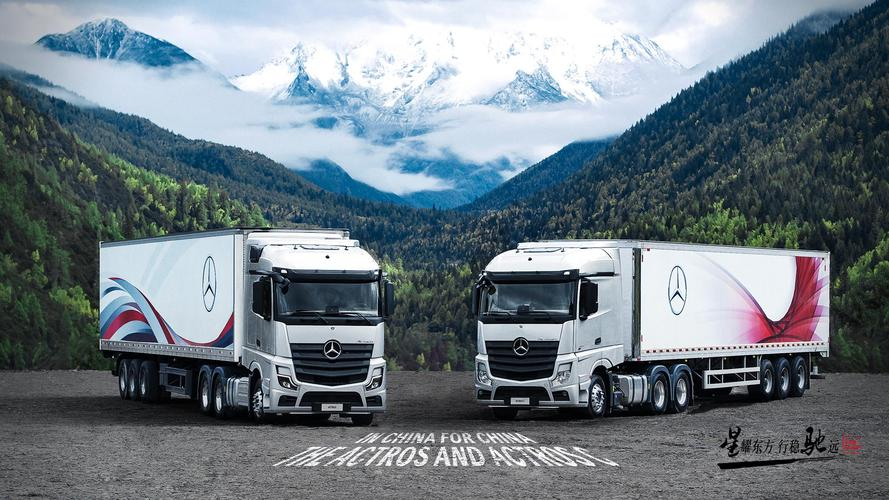卡车: (465, 226, 850, 425), (83, 229, 425, 426)
